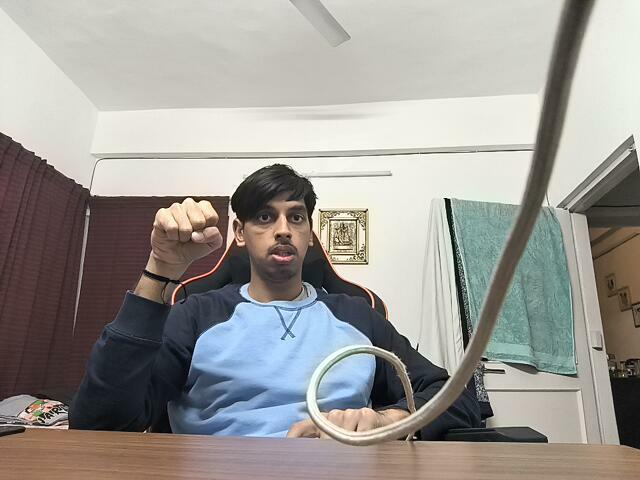DOWN: (141, 188, 234, 270)
